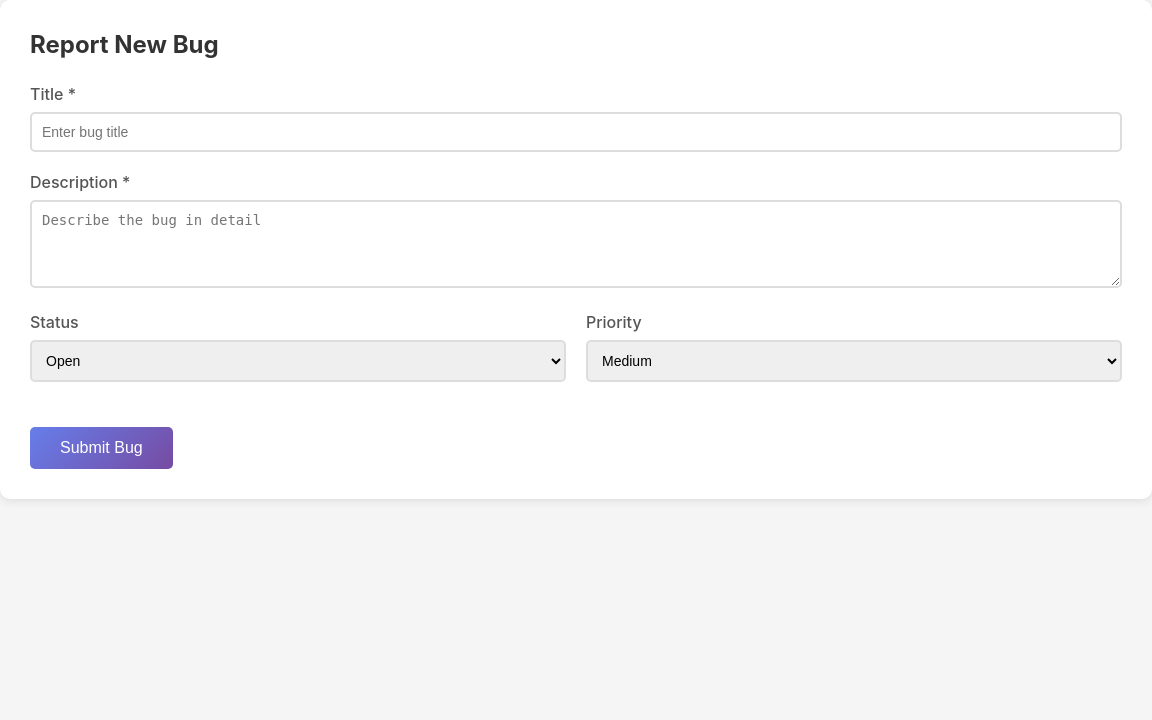
Scenario: BugForm Component › displays validation error when description is empty
Type "Test Bug" into the field labelled "Title *" at (576, 132), box [30,112,1122,152]
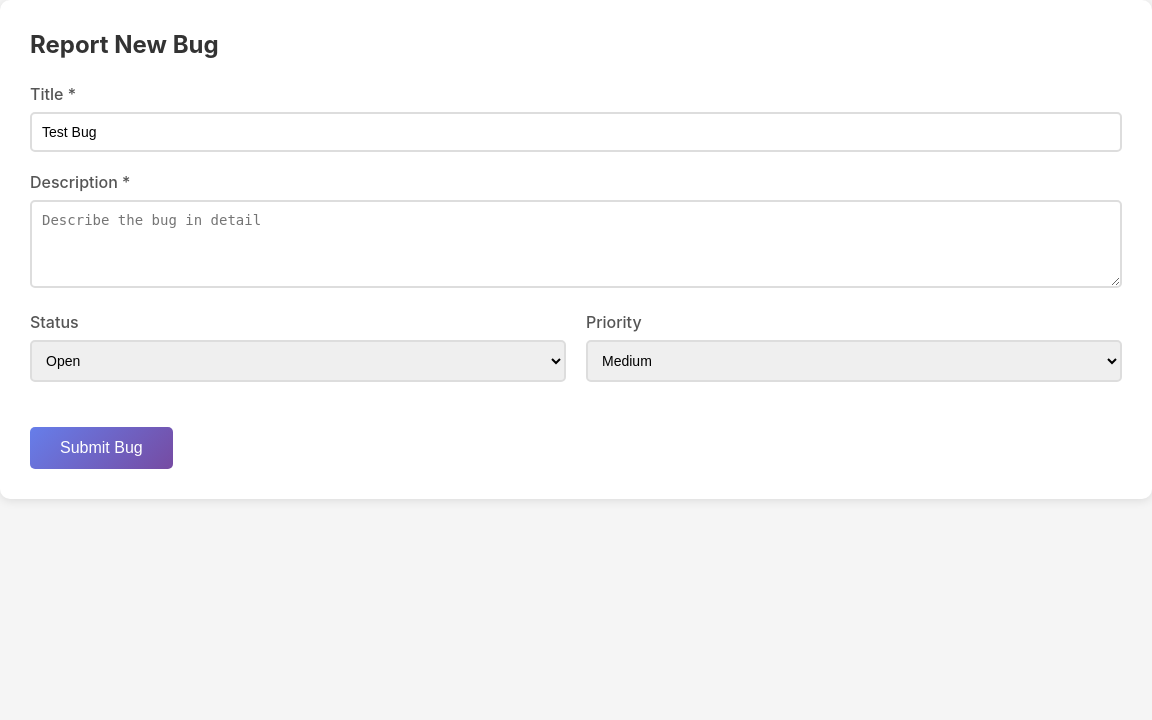
Click the button "Submit Bug" at (101, 448), box [30,427,173,469]
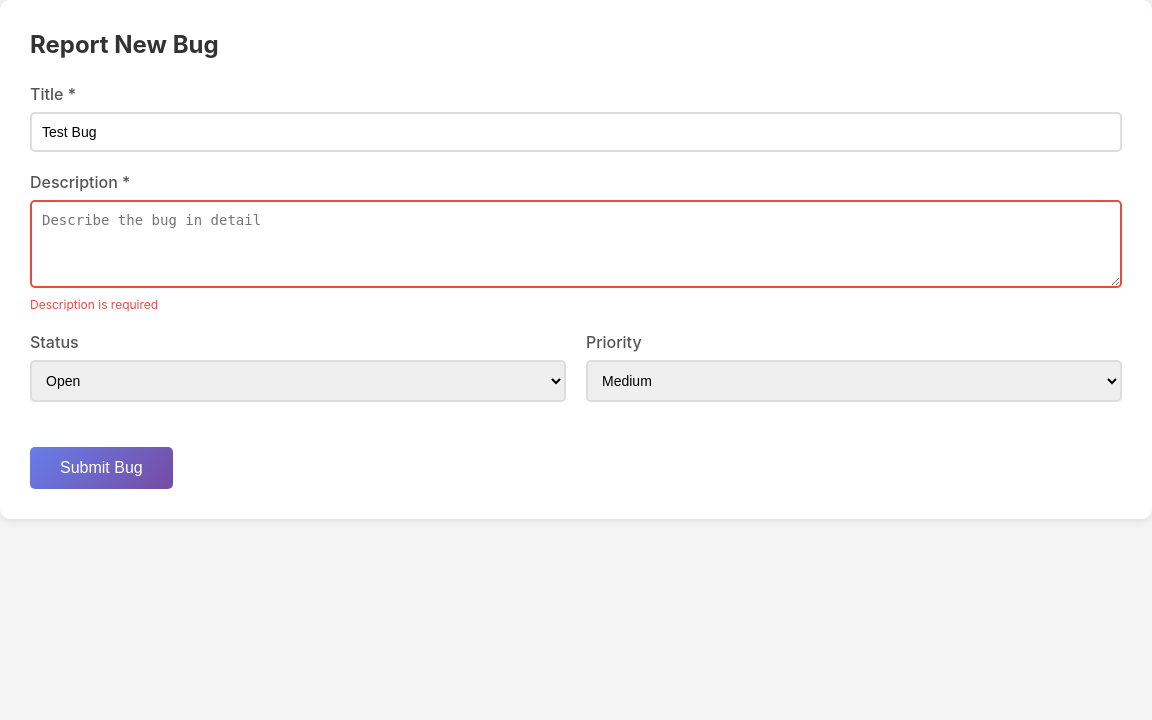
Expected: the text "Description is required" is shown, [30,297,158,312]
